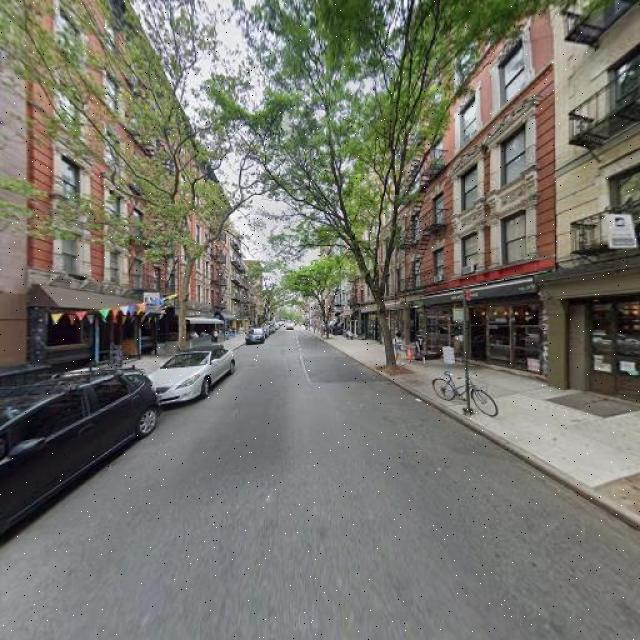Building: (407, 1, 550, 388), (557, 1, 640, 409), (1, 1, 25, 393)
